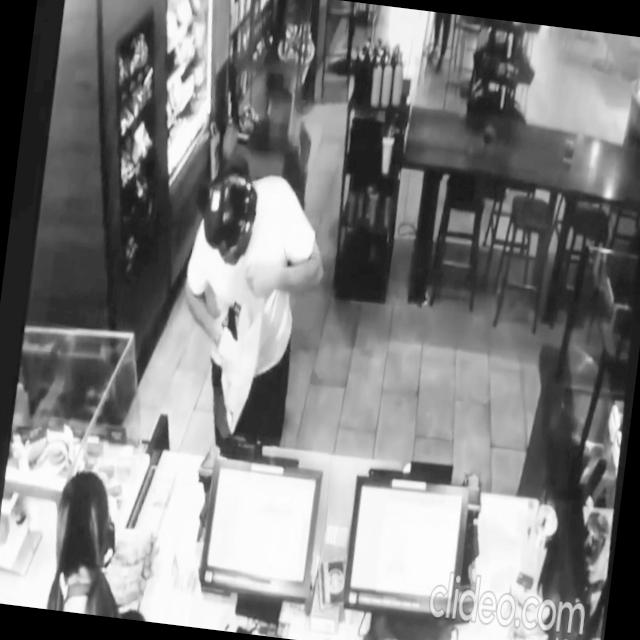gun: (218, 298, 244, 350)
person: (42, 464, 168, 622), (205, 59, 324, 224), (423, 11, 457, 75)
person with a gun: (164, 162, 336, 450)
